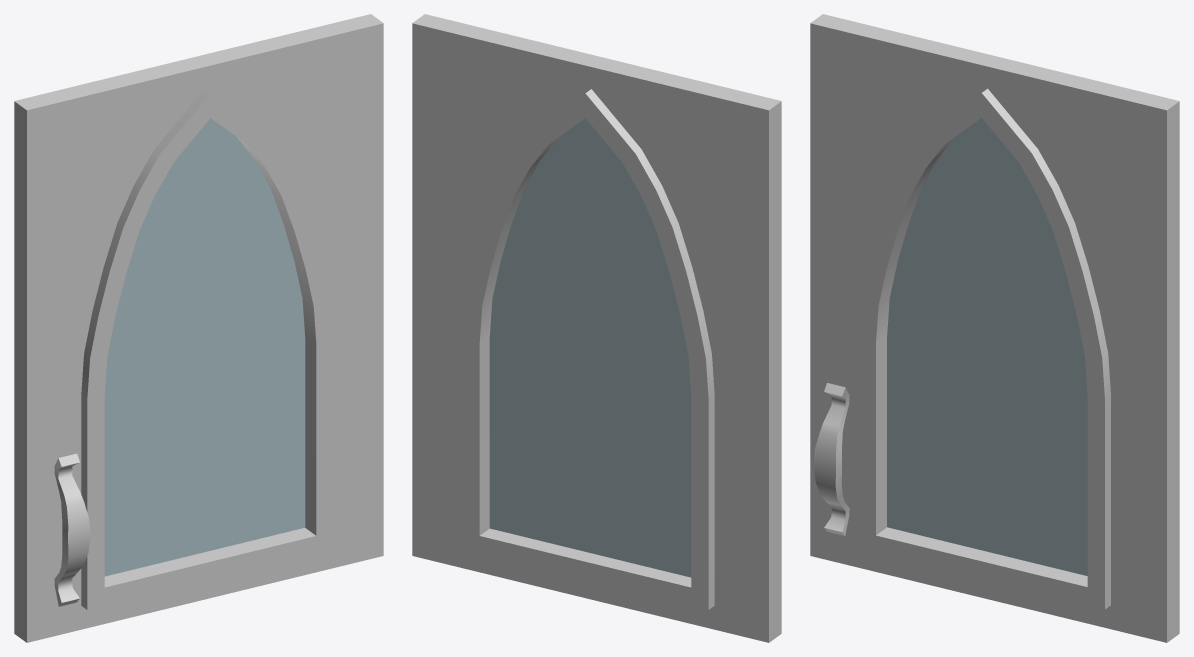
Rendered from SM_Kitchen_07_Door_R.fbx.
The picture shows the model from 3 angles, left to right: view 1: azimuth 30°, elevation 25°; view 2: azimuth 150°, elevation 25°; view 3: azimuth 330°, elevation 25°; orthographic projection.
Parts seen in each view (by area): view 1: SM_Kitchen_07_Door_R; view 2: SM_Kitchen_07_Door_R; view 3: SM_Kitchen_07_Door_R.
Boxes of the visible parts, box(x1,y1,x2,y2) form: SM_Kitchen_07_Door_R: box(14, 14, 383, 642); SM_Kitchen_07_Door_R: box(412, 14, 781, 642); SM_Kitchen_07_Door_R: box(810, 14, 1179, 642).
Size of the model in its own units: 43.18 by 61.58 by 7.92.
